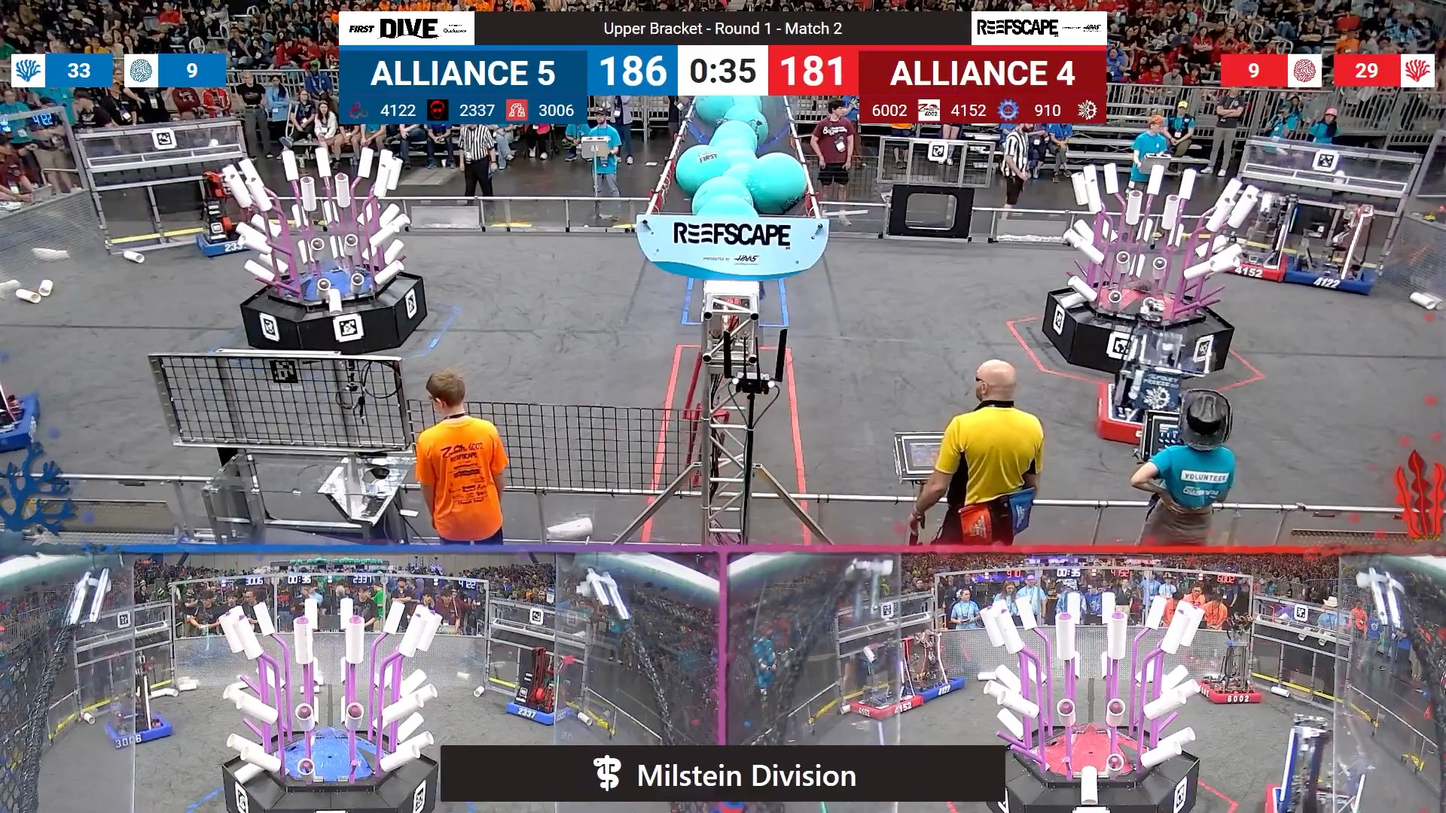bumpers: (1089, 384, 1192, 451), (1270, 260, 1384, 298), (0, 390, 53, 460), (97, 708, 180, 752), (500, 693, 578, 729), (844, 687, 928, 720), (191, 225, 269, 260), (1191, 677, 1268, 707)
